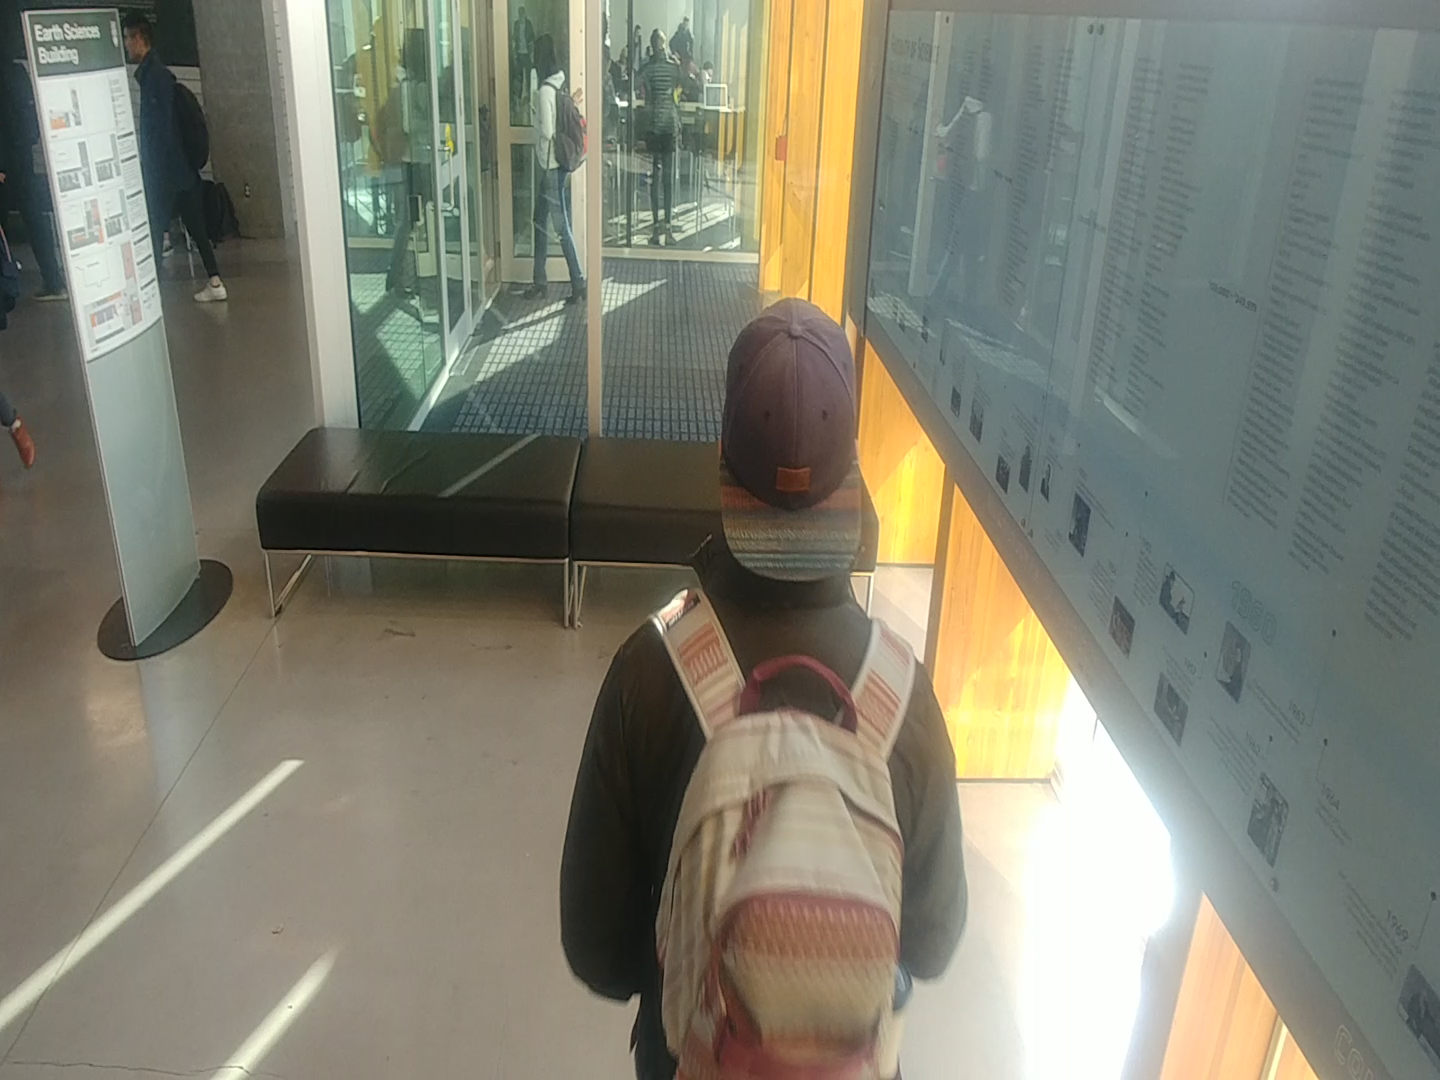face: (703, 282, 885, 613), (517, 23, 571, 87), (110, 4, 161, 73), (644, 18, 680, 74)
human: (537, 281, 985, 1080), (114, 5, 235, 316), (512, 21, 592, 307), (630, 16, 696, 254)
